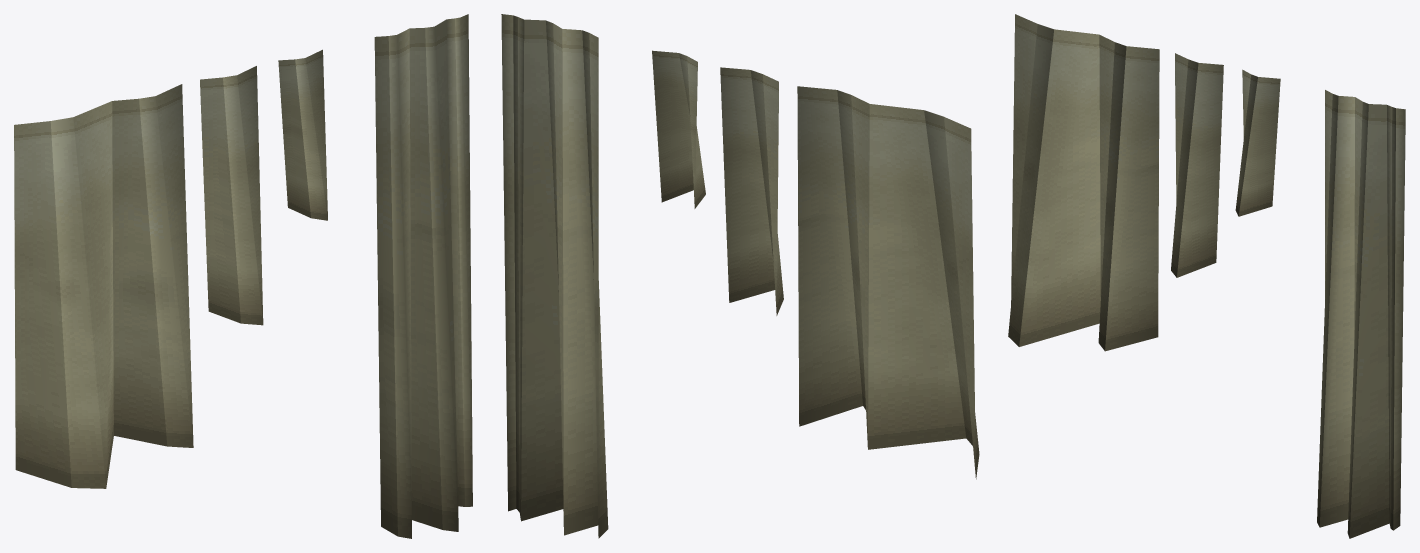
The model's file is prop_curtain-torn-1.glb.
3 renders of one model, left to right at view 1: azimuth 30°, elevation 25°; view 2: azimuth 150°, elevation 25°; view 3: azimuth 330°, elevation 25°, orthographic. The views are drawn at different scales.
Visible parts, largest first — view 1: prop_curtain-torn-1; view 2: prop_curtain-torn-1; view 3: prop_curtain-torn-1.
Part boxes in pixels (x1,y1,x2,y2): prop_curtain-torn-1: (14, 14, 472, 538); prop_curtain-torn-1: (501, 14, 979, 538); prop_curtain-torn-1: (1008, 14, 1405, 538).
Size of the model in its own units: 1.73 by 1.78 by 0.2883.
1 material, 1 textured.
